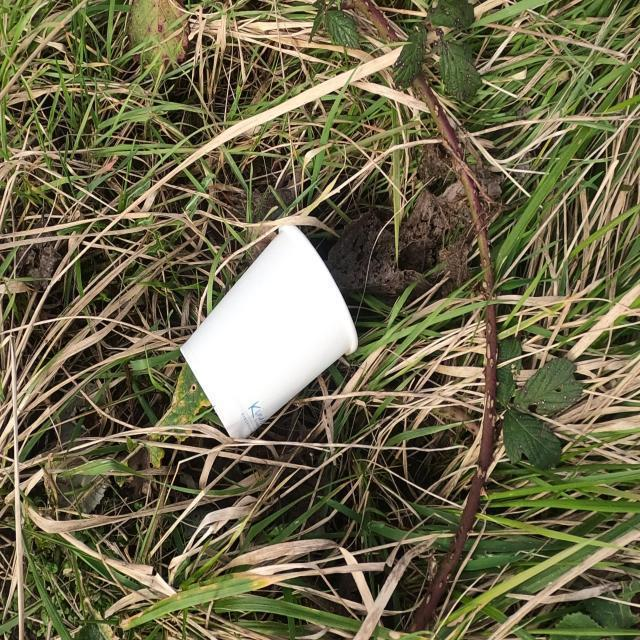Cup: (186, 216, 363, 444)
